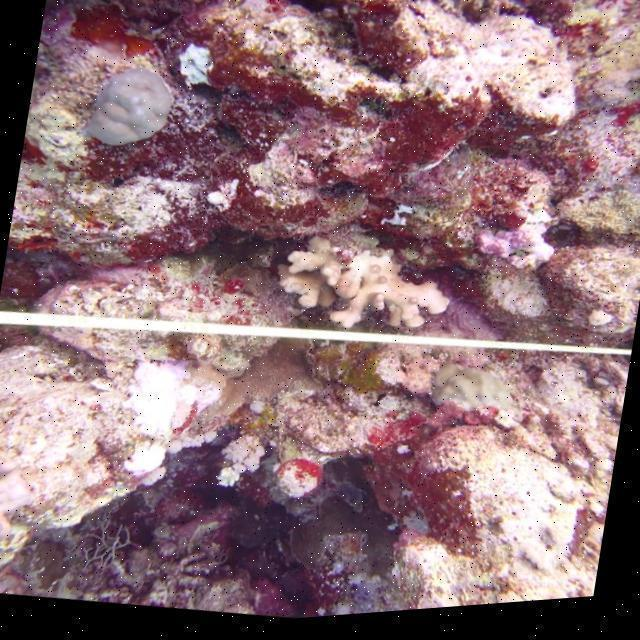Bleached Coral: (83, 301, 226, 508), (465, 179, 575, 284), (168, 34, 223, 96)
